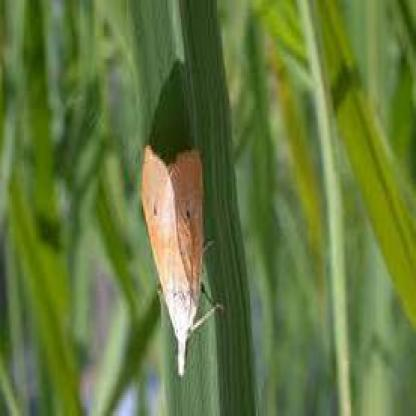stem-borer: (140, 143, 225, 380)
